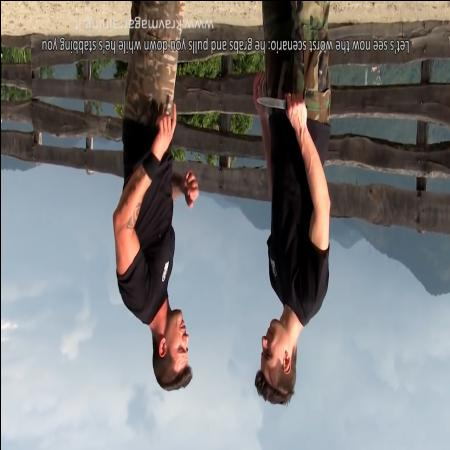long weapon: (253, 90, 307, 119)
